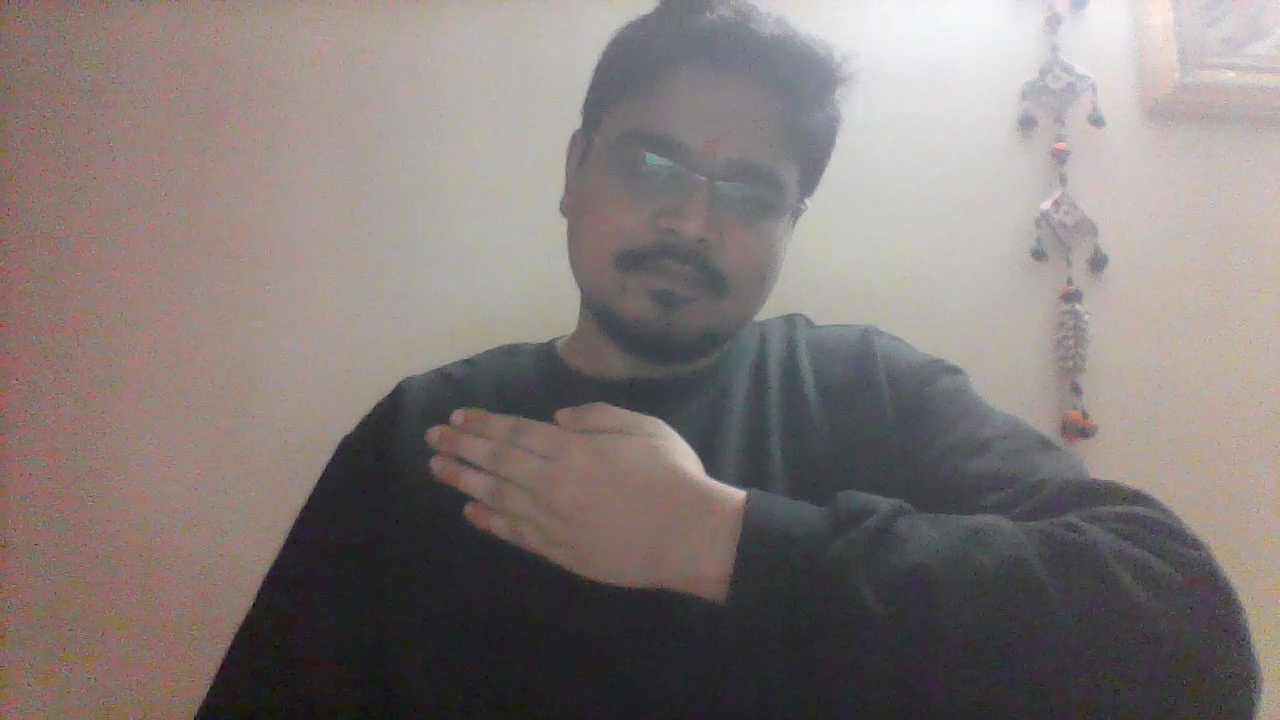Please: (423, 395, 725, 611)
